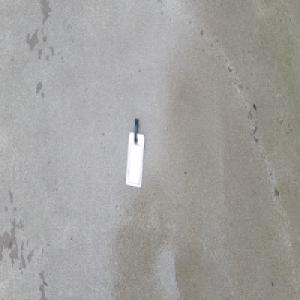LuggageTag: (124, 116, 145, 188)
